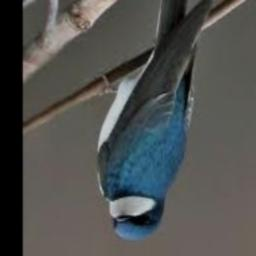Swallow: (96, 0, 215, 241)
